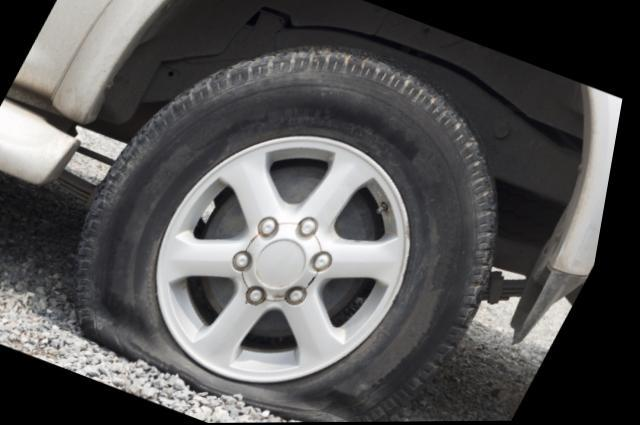tire flat: (84, 45, 506, 423)
